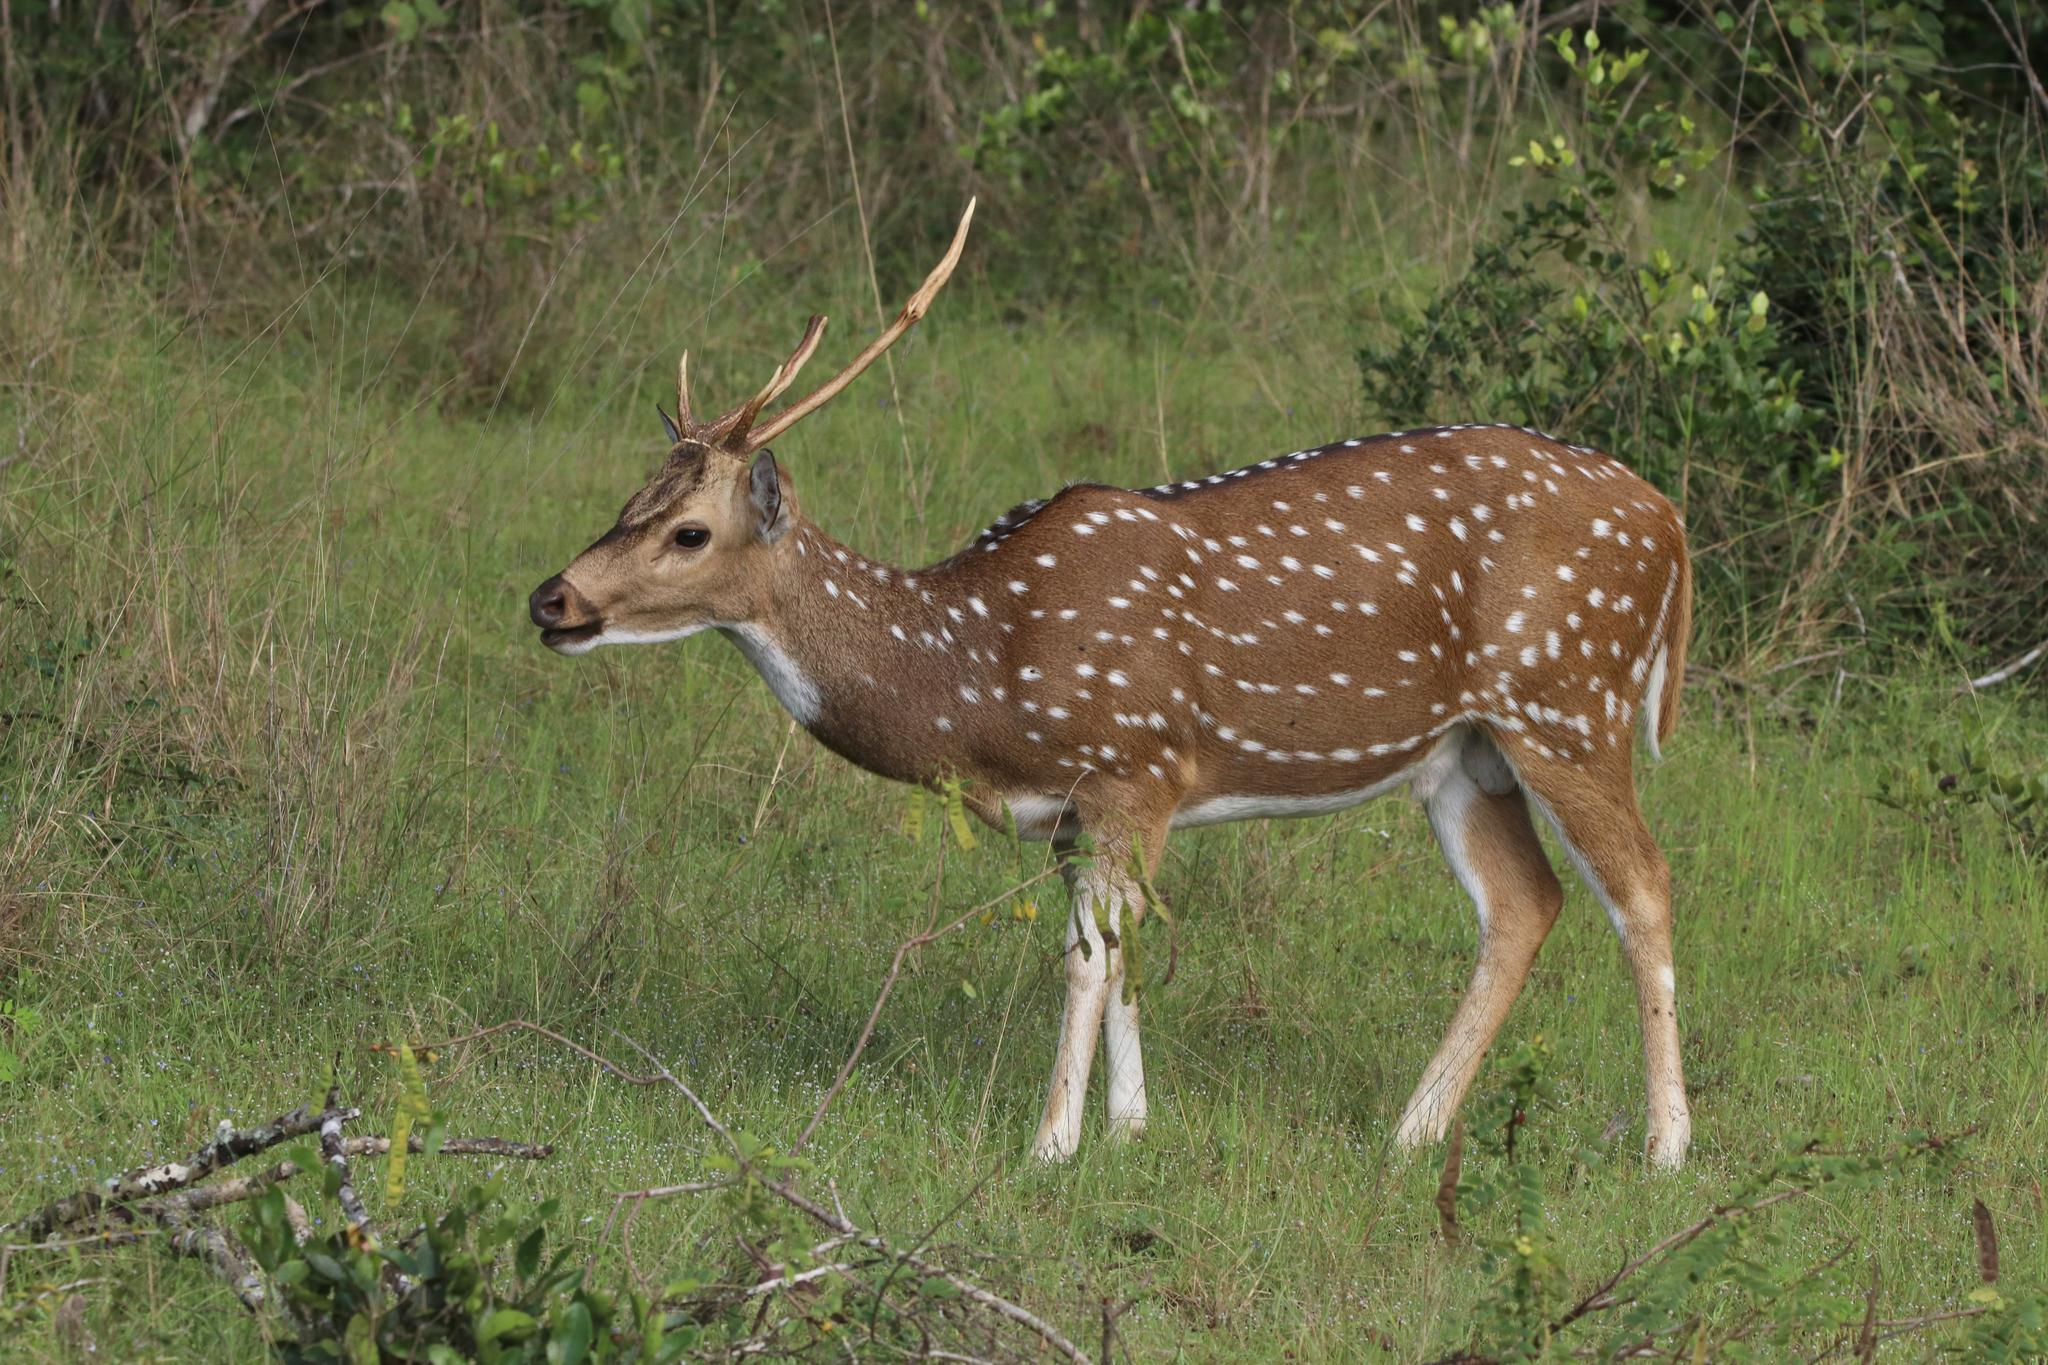Deer: (530, 200, 1692, 1165)
